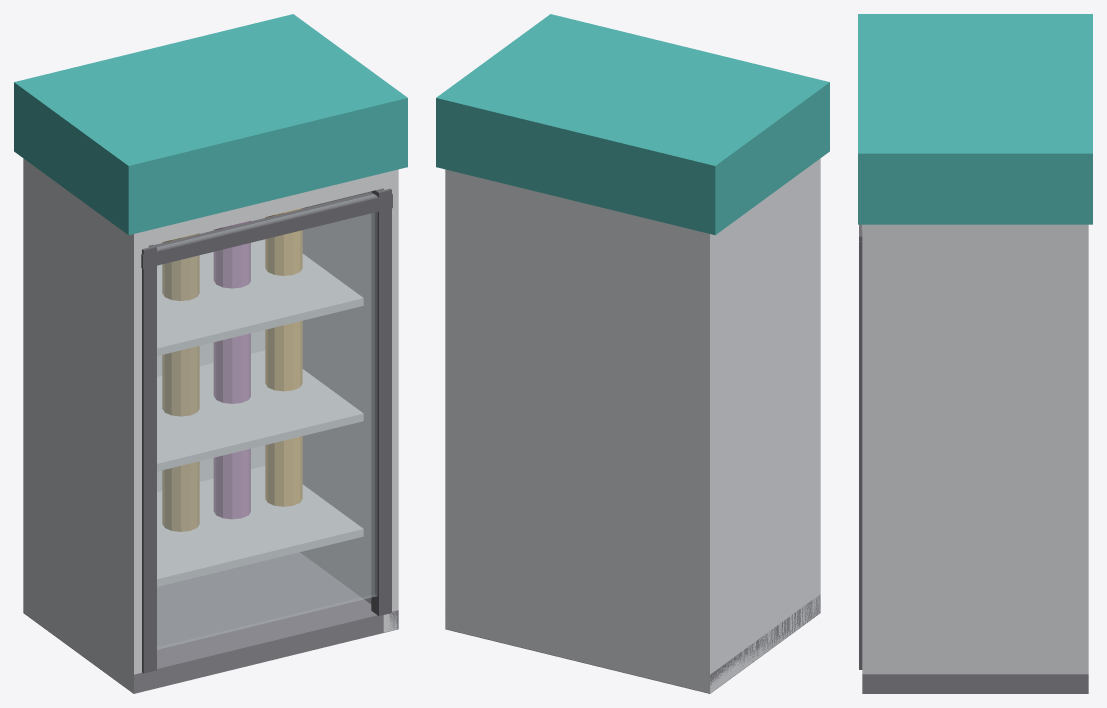
Rendered from drink_display_fridge.glb.
3 renders of one model, left to right at view 1: azimuth 30°, elevation 25°; view 2: azimuth 150°, elevation 25°; view 3: azimuth 270°, elevation 25°, orthographic. The views are drawn at different scales.
Visible parts, largest first — view 1: FridgeGlass, FridgeHeader, FridgeSide_-1.7, FridgeSide_1.7, FridgeBottom, Shelf_0, Shelf_1, Shelf_2, DoorPost_1.6, DoorPost_-1.6, DoorTop, FridgeTop (+10 smaller); view 2: FridgeBack, FridgeHeader, FridgeSide_-1.7, FridgeBottom; view 3: FridgeSide_1.7, FridgeHeader, FridgeBottom, FridgeBack, DoorPost_1.6.
Boxes of the visible parts, x1,y1,x2,y2 form: FridgeGlass: (157,194,377,649); FridgeHeader: (14,14,407,235); FridgeSide_-1.7: (23,158,148,693); FridgeSide_1.7: (300,169,398,632); FridgeBottom: (23,552,398,693); Shelf_0: (157,466,363,586); Shelf_1: (157,350,363,471); Shelf_2: (157,239,363,355); DoorPost_1.6: (371,188,391,615); DoorPost_-1.6: (142,244,156,673); DoorTop: (141,192,392,268); FridgeTop: (134,170,398,248); FridgeBack: (445,169,718,693); FridgeHeader: (436,14,829,235); FridgeSide_-1.7: (697,158,820,693); FridgeBottom: (445,594,820,693); FridgeSide_1.7: (862,224,1088,674); FridgeHeader: (858,14,1092,224); FridgeBottom: (862,674,1088,693); FridgeBack: (1071,224,1088,588); DoorPost_1.6: (859,230,862,669).
Bounding box in the file's own units: 3.8 × 6.9 × 2.7.
